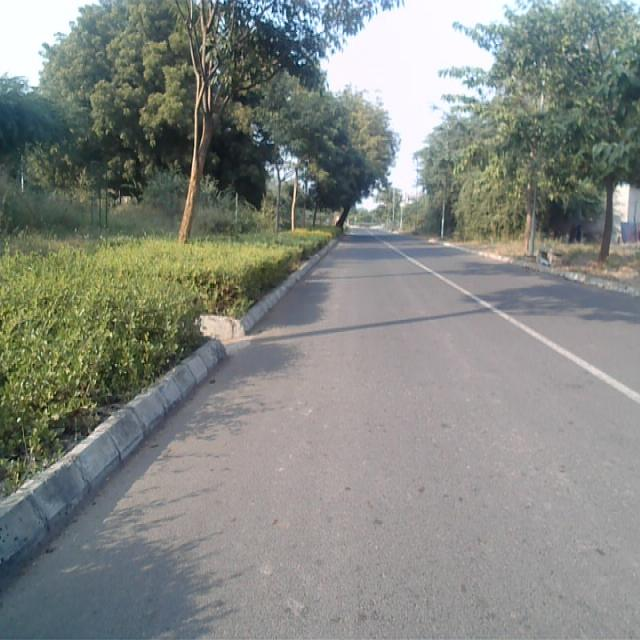lane: (0, 230, 640, 640)
